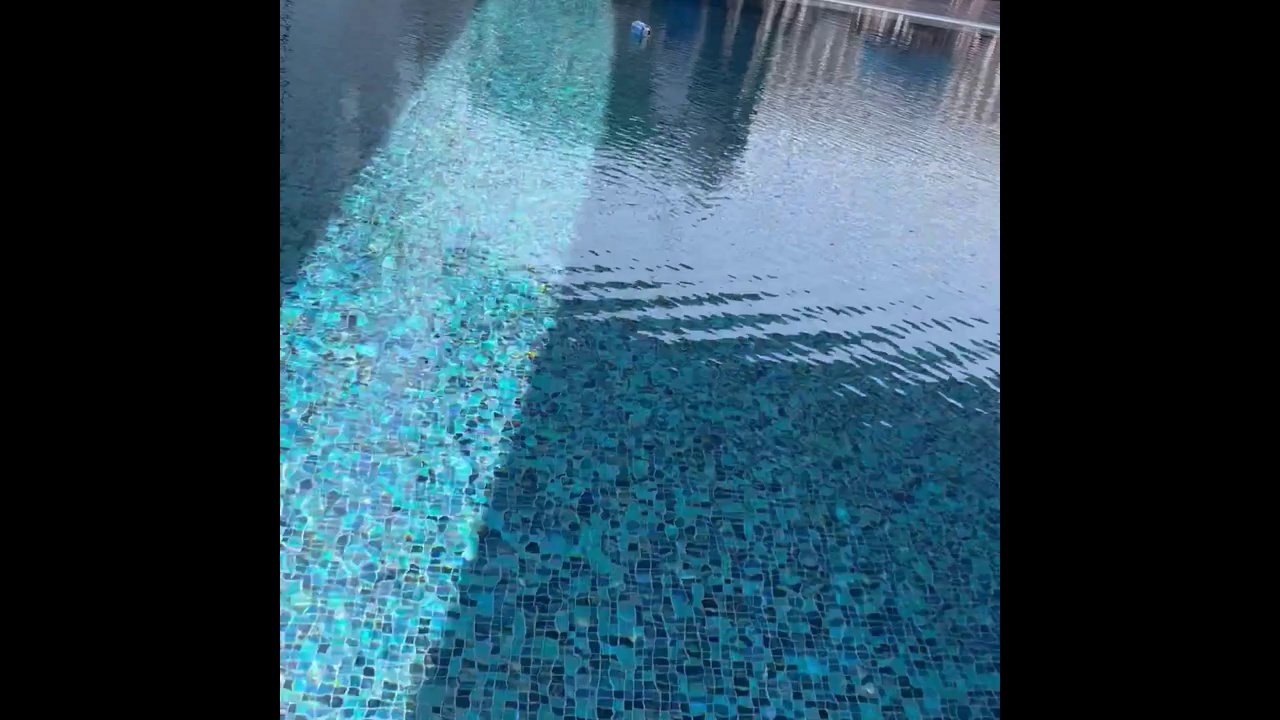debris: (628, 17, 654, 41)
